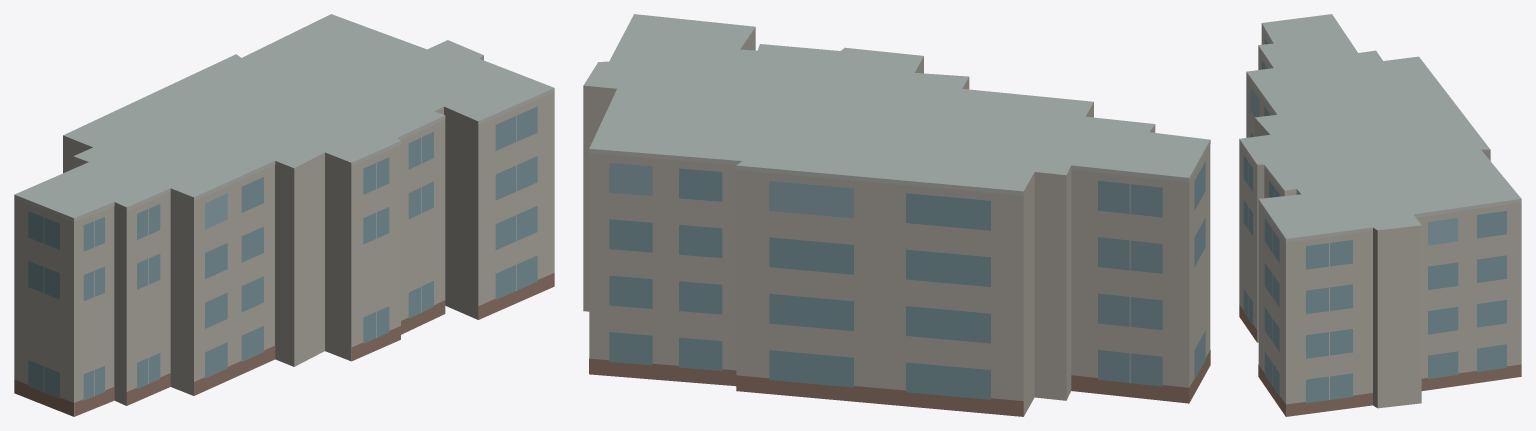
Rendered from survey-upis-32687597.glb.
3 renders of one model, left to right at view 1: azimuth 30°, elevation 25°; view 2: azimuth 150°, elevation 25°; view 3: azimuth 270°, elevation 25°, orthographic. The views are drawn at different scales.
Parts seen in each view (by area): view 1: survey-upis-32687597.tmp; view 2: survey-upis-32687597.tmp; view 3: survey-upis-32687597.tmp.
Boxes of the visible parts, box(x1,y1,x2,y2) form: survey-upis-32687597.tmp: box(14, 14, 554, 416); survey-upis-32687597.tmp: box(583, 14, 1210, 416); survey-upis-32687597.tmp: box(1239, 14, 1521, 416).
Size of the model in its own units: 33.62 by 12.4 by 17.83.
